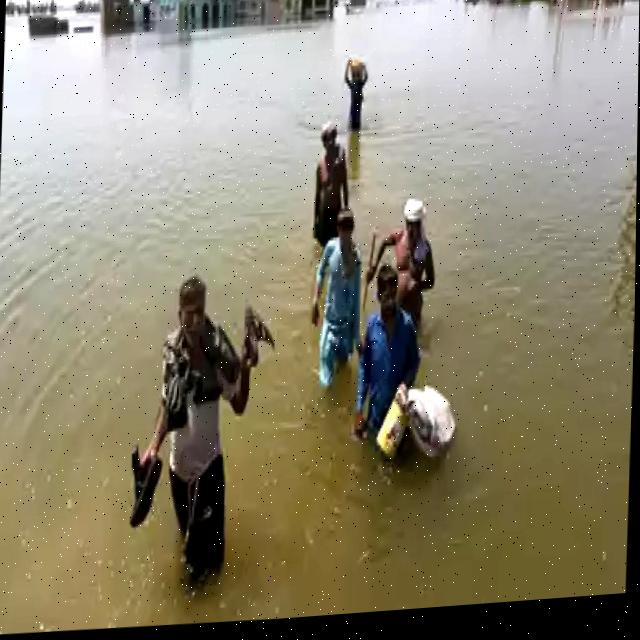civilian: (132, 264, 264, 595), (348, 255, 428, 493), (306, 198, 364, 403), (364, 190, 442, 337), (306, 109, 348, 252), (343, 43, 372, 142)
